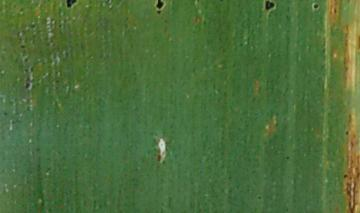tarspot: (153, 1, 169, 17), (61, 1, 81, 10), (262, 1, 277, 12), (311, 1, 321, 12), (24, 81, 33, 92), (283, 154, 293, 163), (22, 67, 35, 73), (22, 56, 30, 64), (344, 129, 351, 138), (341, 173, 350, 180), (255, 193, 262, 201), (19, 43, 26, 51)
